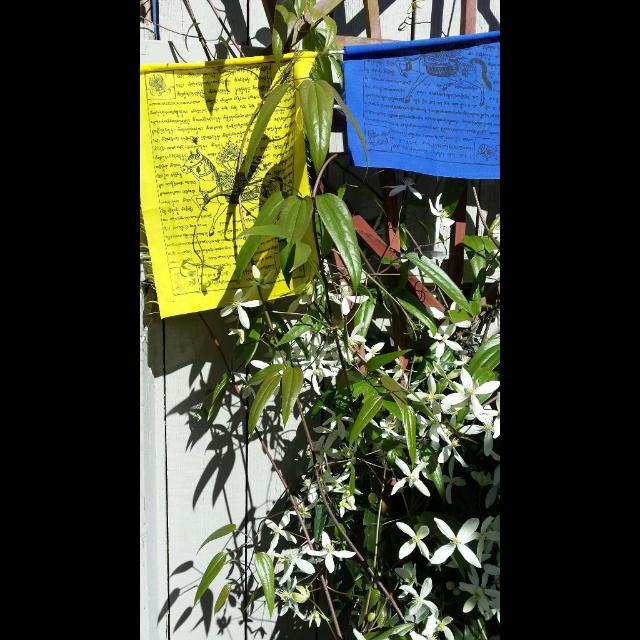Flower: (217, 175, 499, 639), (304, 542, 354, 578)
